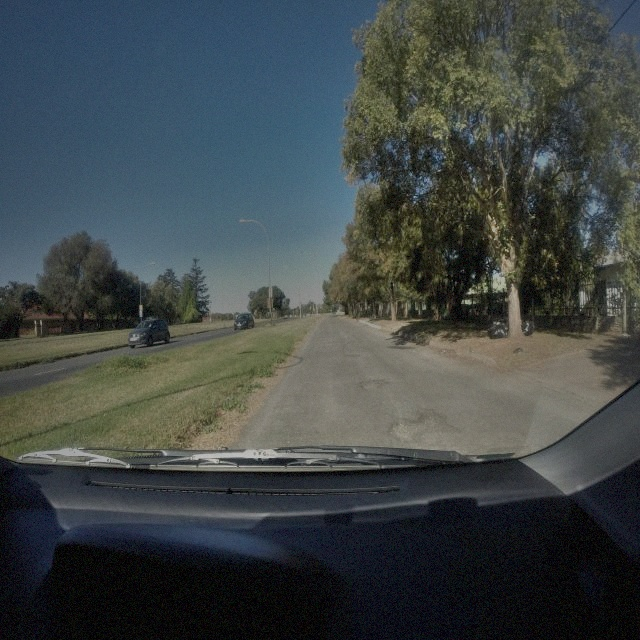pothole: (388, 400, 456, 444), (358, 376, 388, 394)
